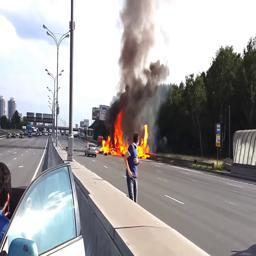fire: (100, 113, 149, 160)
